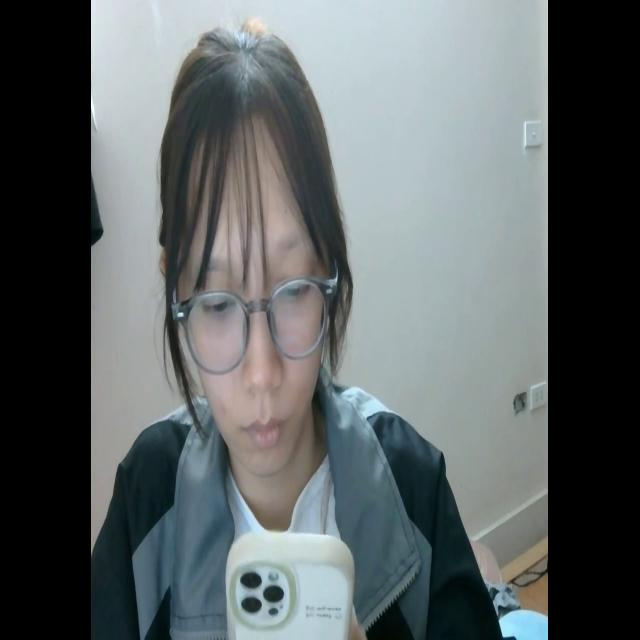phone: (223, 523, 355, 640)
student: (96, 17, 506, 640)
